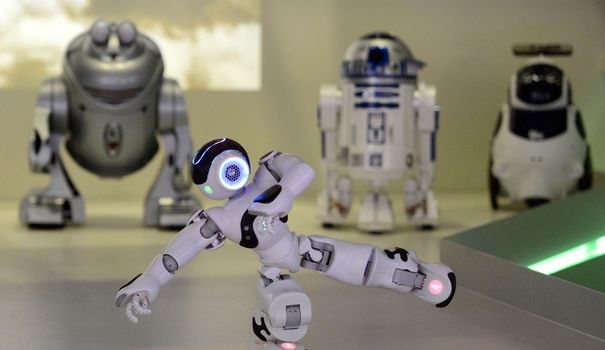nao: (107, 129, 472, 350)
